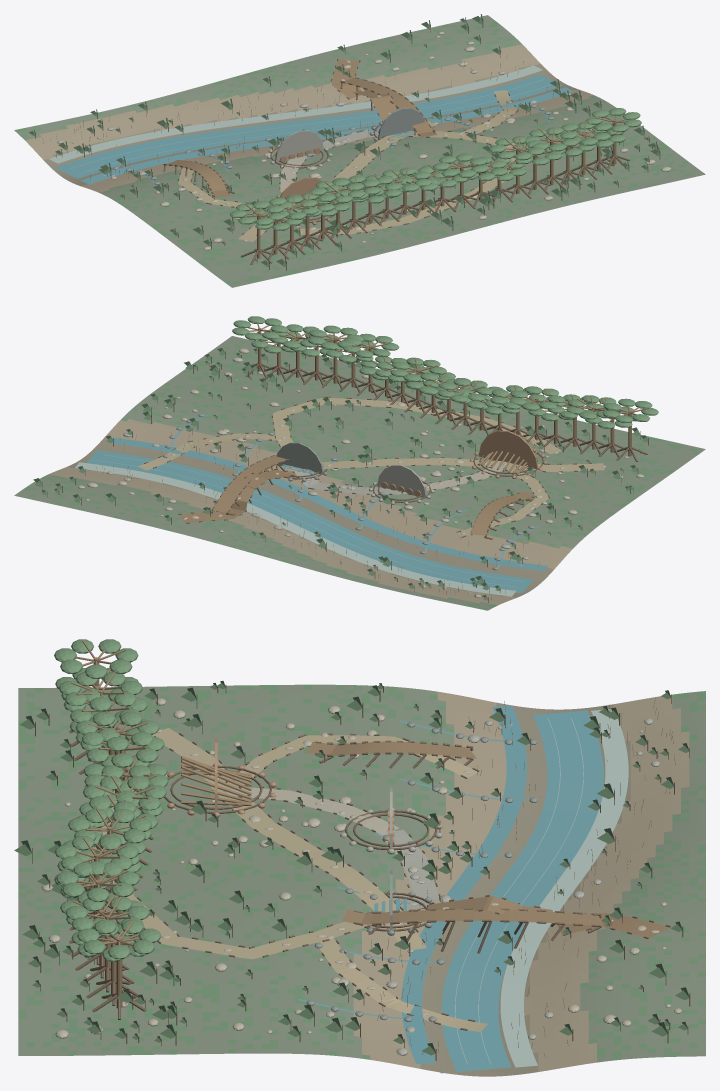
File: ALC_M5_CONNECTIVE_SETTLEMENT_v001.glb
The picture shows the model from 3 angles, top to bottom: view 1: azimuth 30°, elevation 25°; view 2: azimuth 150°, elevation 25°; view 3: azimuth 270°, elevation 25°; orthographic projection. The views are drawn at different scales.
Parts seen in each view (by area): view 1: soil, canopy, bank, moss, water, wood, root, silt, waterfoam, mud, fern, pebble (+4 smaller); view 2: soil, bank, moss, canopy, water, wood, root, silt, mud, fern, waterfoam, pebble (+4 smaller); view 3: soil, bank, canopy, moss, water, wood, silt, root, mud, waterfoam, pebble, fern (+4 smaller).
Part boxes in pixels (x1,y1,x2,y2): soil: (17, 15, 705, 287); canopy: (29, 16, 657, 265); bank: (25, 44, 593, 192); moss: (14, 20, 691, 284); water: (55, 74, 573, 186); wood: (165, 59, 625, 258); root: (35, 19, 660, 270); silt: (178, 90, 523, 241); waterfoam: (49, 65, 549, 171); mud: (43, 64, 577, 185); fern: (33, 14, 659, 267); pebble: (155, 31, 671, 255); soil: (14, 336, 705, 609); bank: (49, 419, 572, 605); moss: (22, 340, 700, 610); canopy: (232, 316, 658, 428); water: (87, 414, 547, 593); wood: (179, 322, 649, 535); root: (42, 351, 648, 602); silt: (138, 397, 604, 536); mud: (68, 437, 553, 597); fern: (33, 348, 648, 600); waterfoam: (75, 455, 523, 596); pebble: (75, 348, 643, 534); soil: (18, 684, 705, 1062); bank: (353, 691, 689, 1071); canopy: (14, 639, 689, 1055); moss: (18, 684, 705, 1060); water: (298, 705, 603, 1073); wood: (67, 640, 669, 1008); silt: (92, 728, 487, 1031); root: (32, 685, 690, 1061); mud: (420, 702, 630, 1076); waterfoam: (455, 709, 628, 1067); pebble: (41, 698, 681, 1038); fern: (21, 681, 689, 1052).
Bounding box in the file's own units: 74 × 12.22 × 59.36.
